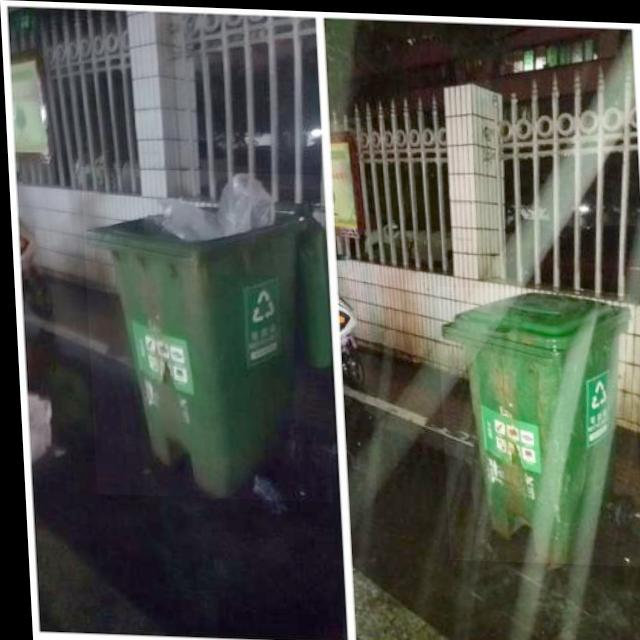garbage_bin: (433, 283, 638, 562)
overflow: (79, 166, 332, 500)
